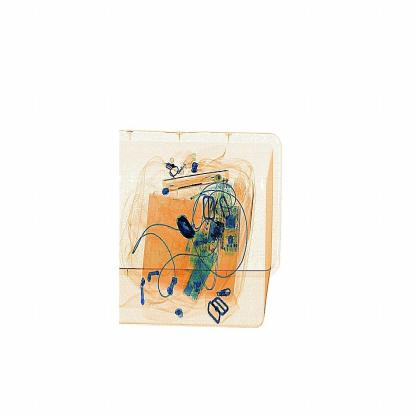scissors: (168, 205, 204, 248)
